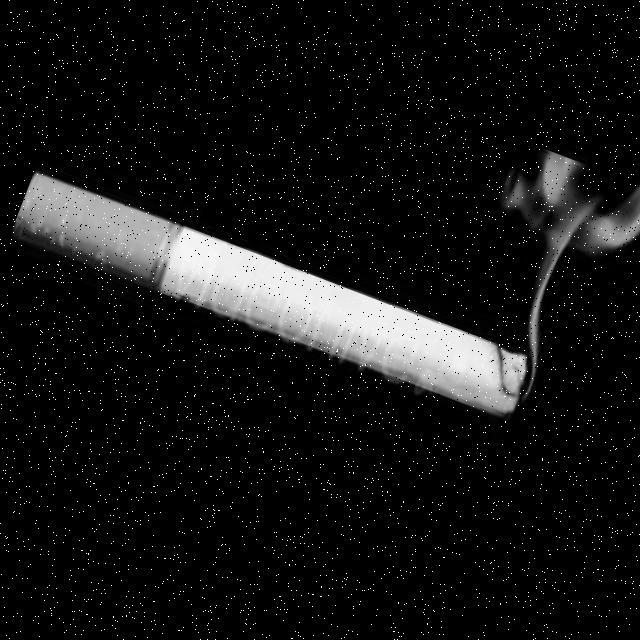cigarette: (9, 155, 538, 429)
